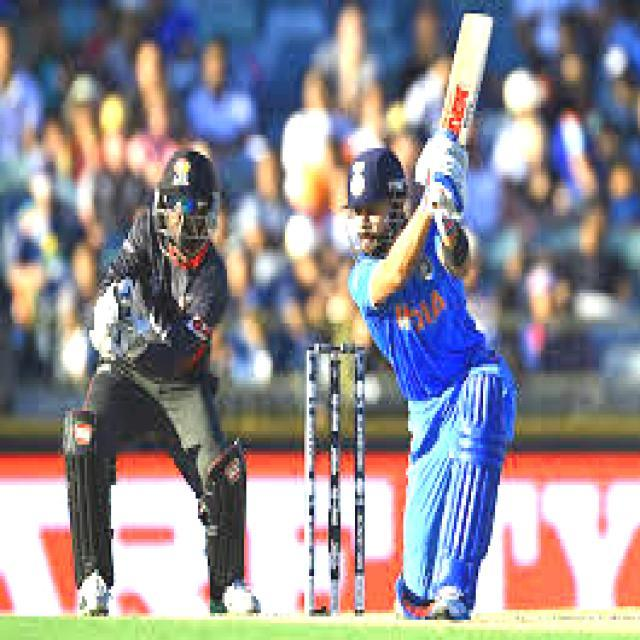bat: (438, 12, 505, 145)
